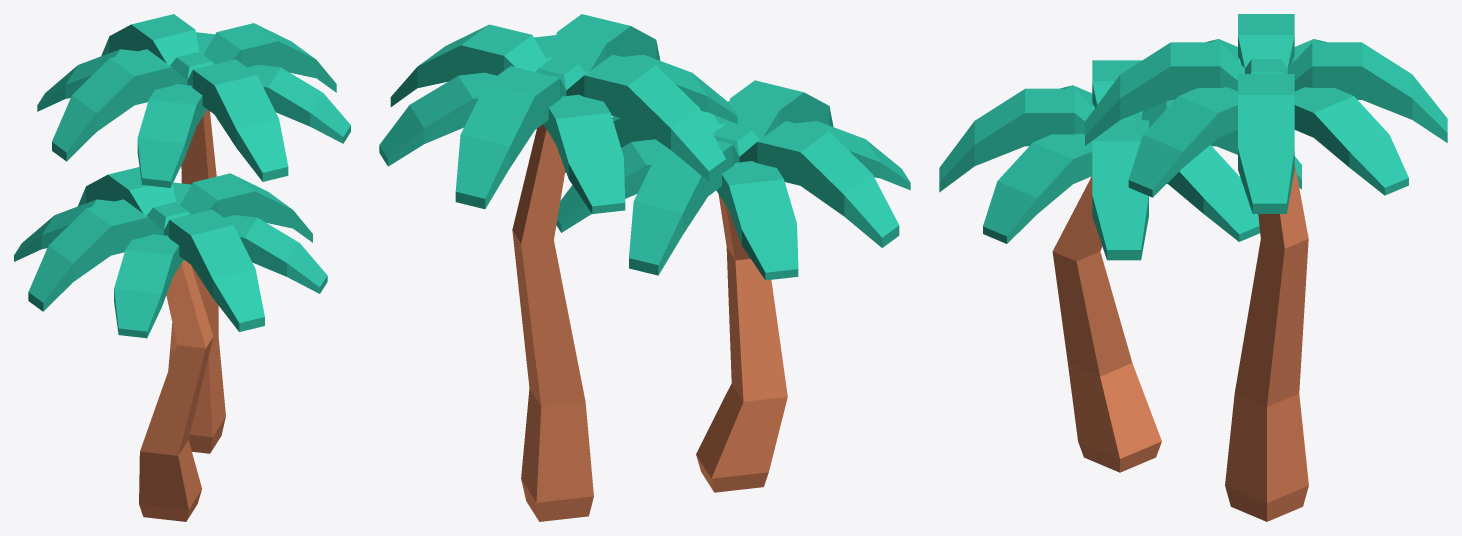
The model's file is Palms 2.fbx.
The picture shows the model from 3 angles, left to right: view 1: azimuth 30°, elevation 25°; view 2: azimuth 150°, elevation 25°; view 3: azimuth 270°, elevation 25°; orthographic projection. The views are drawn at different scales.
Visible parts, largest first — view 1: tree_palmDetailedShort, tree_palmDetailedTall; view 2: tree_palmDetailedTall, tree_palmDetailedShort; view 3: tree_palmDetailedTall, tree_palmDetailedShort.
Part boxes in pixels (bbox=[...]): tree_palmDetailedShort: bbox=[14, 167, 327, 521]; tree_palmDetailedTall: bbox=[37, 14, 350, 453]; tree_palmDetailedTall: bbox=[379, 14, 737, 521]; tree_palmDetailedShort: bbox=[556, 80, 910, 492]; tree_palmDetailedTall: bbox=[1085, 14, 1447, 521]; tree_palmDetailedShort: bbox=[939, 60, 1301, 472].
Bounding box in the file's own units: 13.63 × 14.23 × 14.5.
